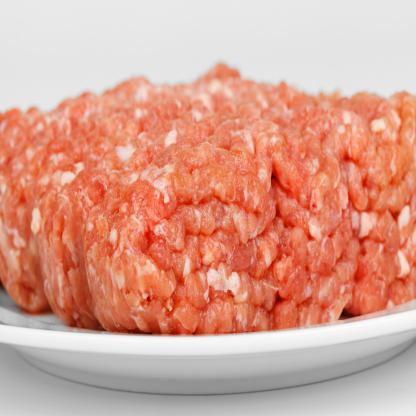beef: (0, 61, 416, 338)
